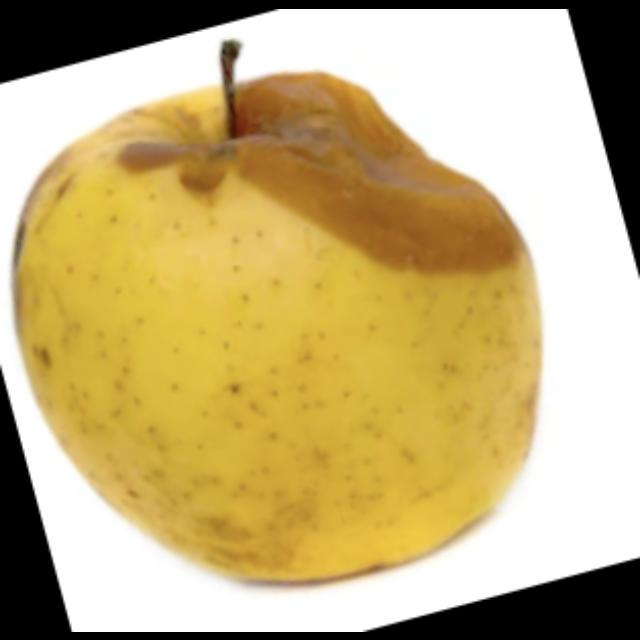Apel Tidak Segar: (5, 64, 559, 582)
